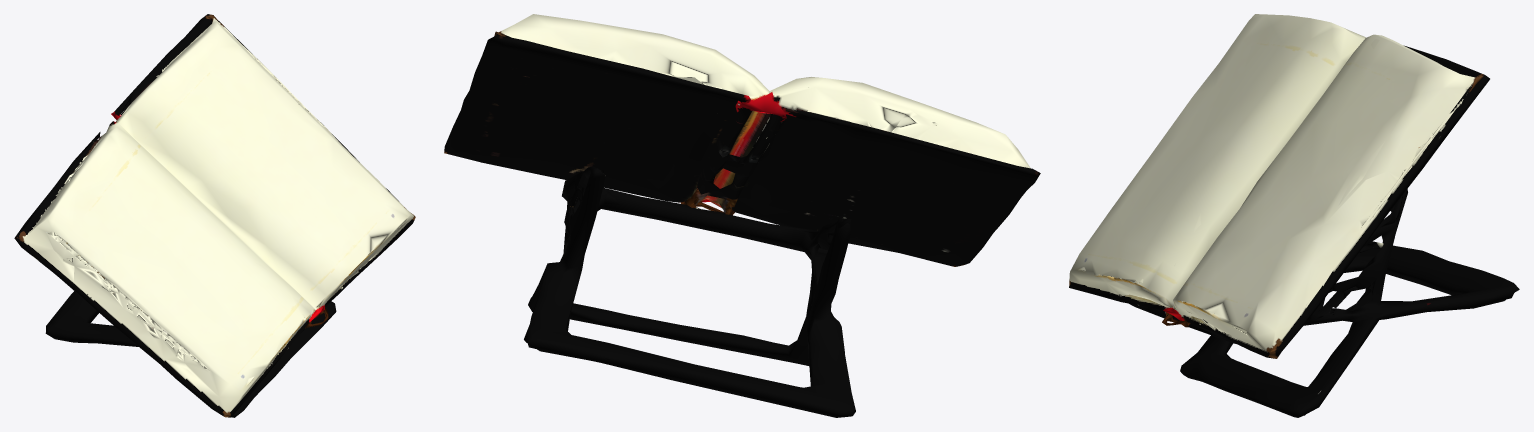
The model's file is rd_great_ledger.glb.
3 renders of one model, left to right at view 1: azimuth 30°, elevation 25°; view 2: azimuth 150°, elevation 25°; view 3: azimuth 270°, elevation 25°, orthographic. The views are drawn at different scales.
Bounding box in the file's own units: 0.8809 × 0.6149 × 0.6953.
Materials: 1 (1 with a texture image).
